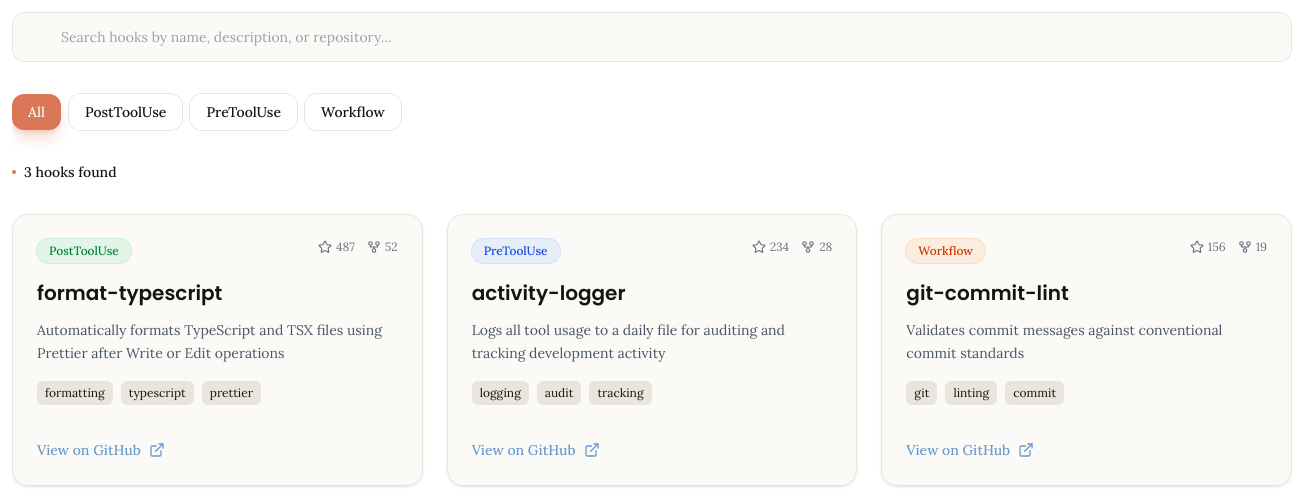
HookGrid Component › filters hooks by search query in description
The image size is (1304, 504).
Type "validates" into the field with placeholder "Search hooks by name, description, or repository..." at (652, 37), box [12,12,1292,62]
Wait 300 ms
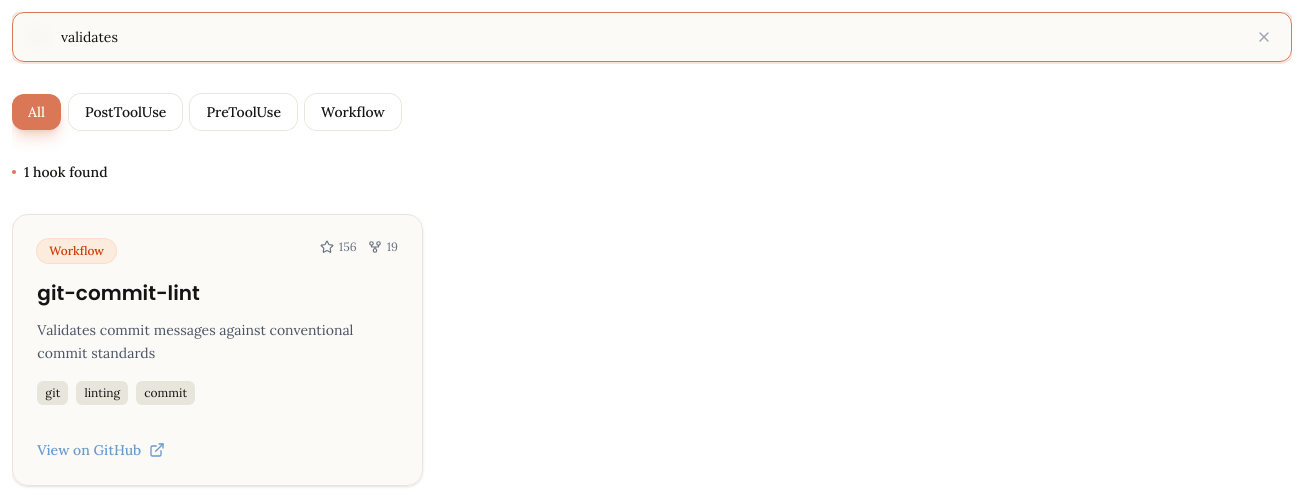
Expected: the heading "git-commit-lint" is shown, [37,279,199,307]
Expected: the heading "format-typescript" is gone
Expected: the heading "activity-logger" is gone
